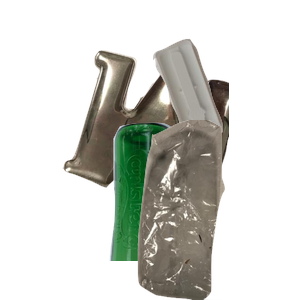glass: (107, 120, 278, 300)
metal: (60, 47, 300, 227)
plastic: (150, 36, 300, 173)
trash: (114, 120, 300, 300)
